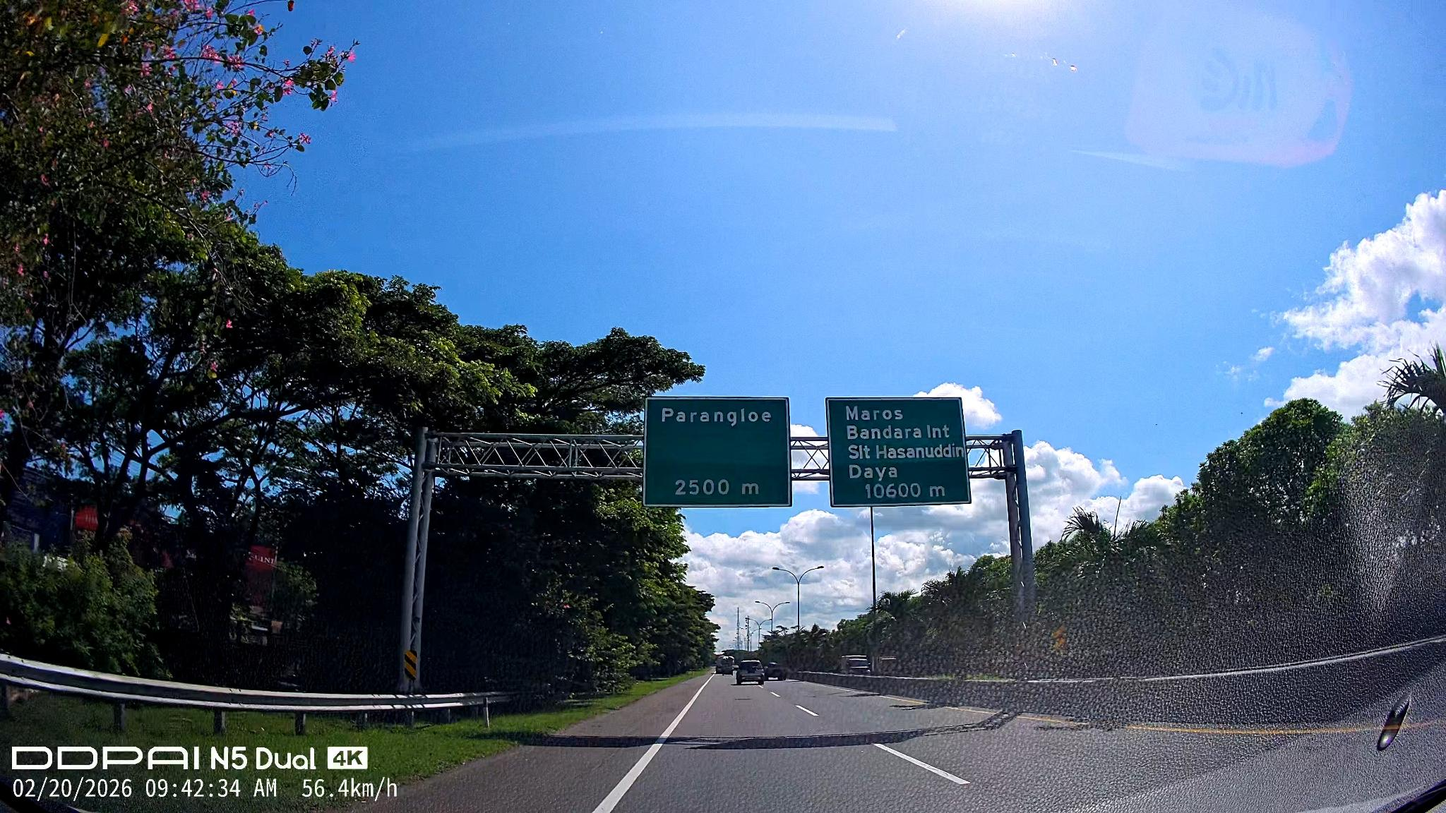rambu_teks: (642, 394, 795, 509), (823, 395, 974, 508)
